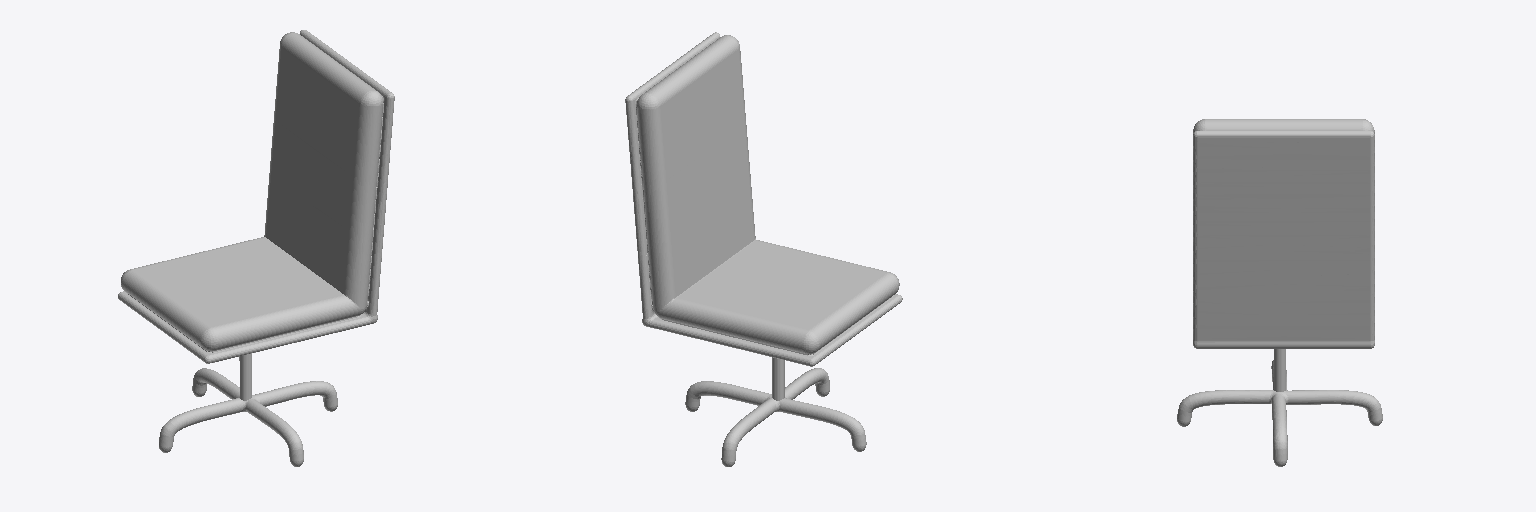
File: drehstuhl_3.obj
3 renders of one model, left to right at view 1: azimuth 30°, elevation 25°; view 2: azimuth 150°, elevation 25°; view 3: azimuth 270°, elevation 25°, orthographic.
Parts seen in each view (by area): view 1: 282318_23_05_24_17_51_35_0, 282318_23_05_24_17_51_35_1; view 2: 282318_23_05_24_17_51_35_0, 282318_23_05_24_17_51_35_1; view 3: 282318_23_05_24_17_51_35_0, 282318_23_05_24_17_51_35_1.
Boxes of the visible parts, box(x1,y1,x2,y2) form: 282318_23_05_24_17_51_35_0: box(118, 30, 394, 400); 282318_23_05_24_17_51_35_1: box(159, 368, 337, 466); 282318_23_05_24_17_51_35_0: box(625, 32, 902, 400); 282318_23_05_24_17_51_35_1: box(685, 368, 866, 466); 282318_23_05_24_17_51_35_0: box(1193, 119, 1374, 391); 282318_23_05_24_17_51_35_1: box(1177, 360, 1382, 466).
Size of the model in its own units: 5.71 by 9.77 by 5.25.